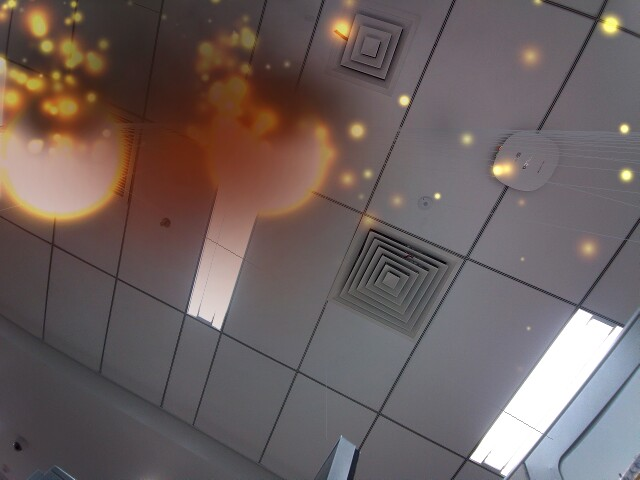fire: (0, 83, 133, 232), (215, 92, 346, 223)
